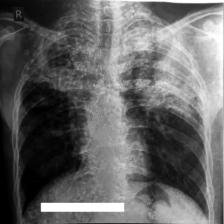tuberculosis: (9, 11, 213, 224)
